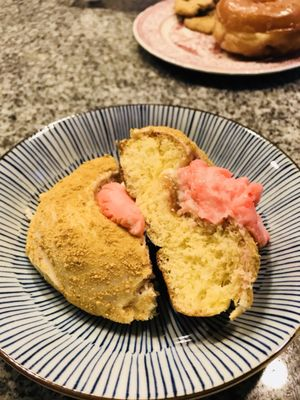curry: (0, 0, 299, 380), (24, 128, 270, 324)
salad: (211, 0, 300, 59)
sushi: (25, 126, 267, 325)
